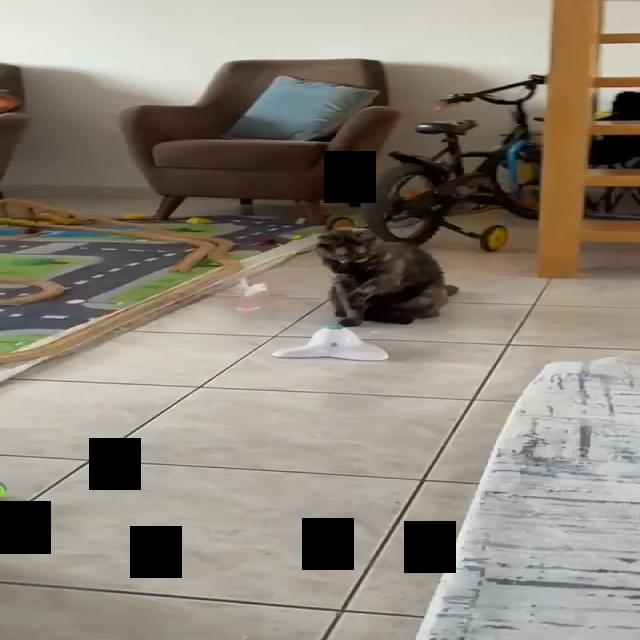authorized: (313, 226, 459, 327)
